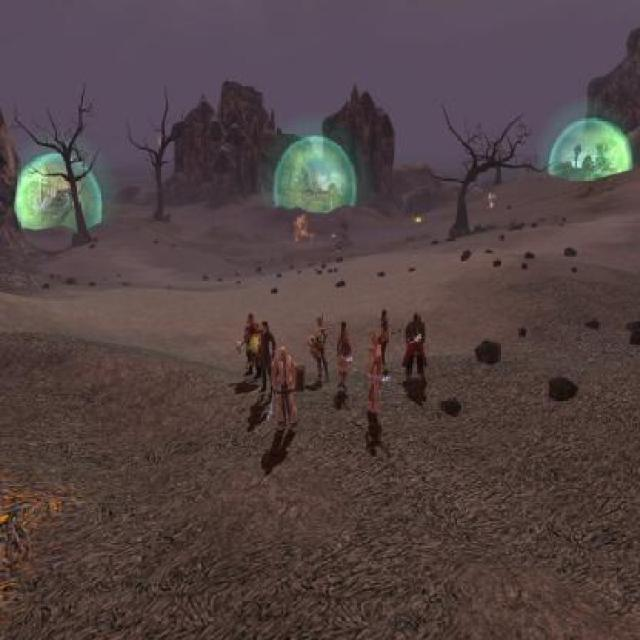Person: (271, 346, 298, 431), (402, 315, 428, 382), (368, 332, 384, 414), (243, 315, 262, 376), (260, 319, 275, 395), (311, 316, 327, 382), (337, 324, 352, 388), (378, 309, 390, 374)
